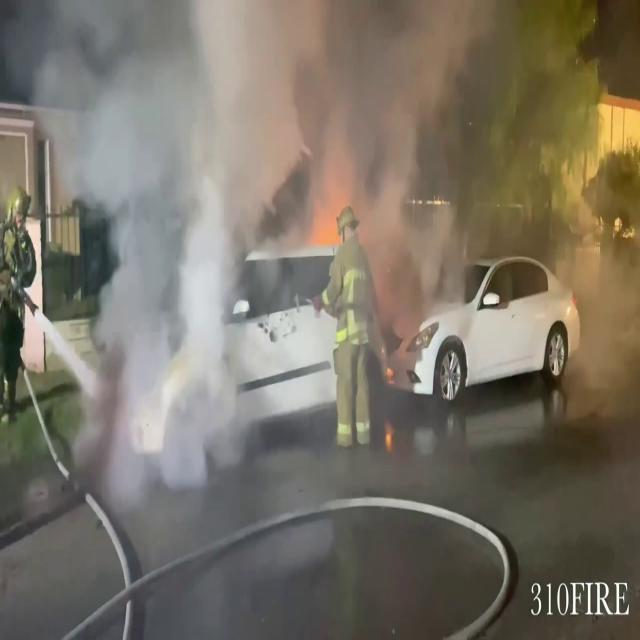Smoke: (35, 0, 497, 487)
